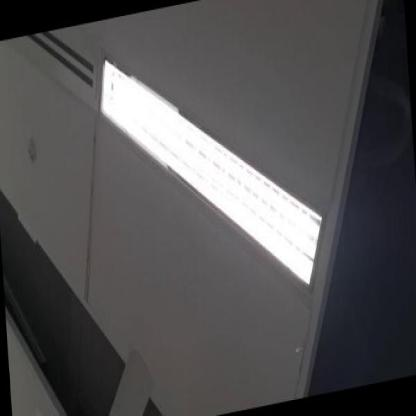light_on: (76, 0, 342, 368)
